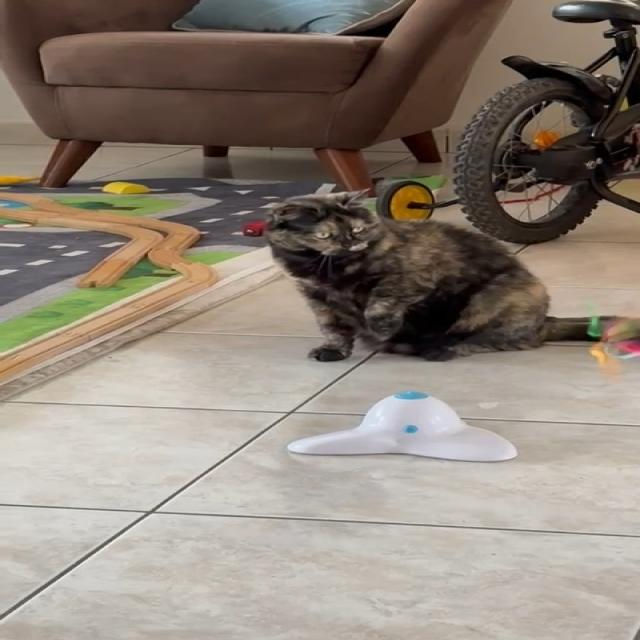authorized: (259, 188, 637, 362)
